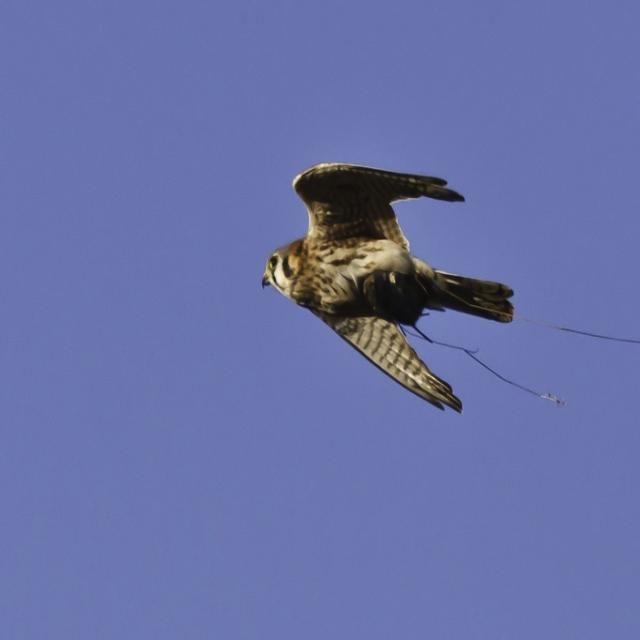bird: (256, 168, 519, 414)
